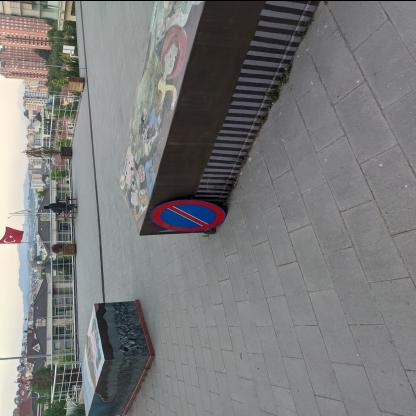No Waiting: (151, 200, 227, 232)
